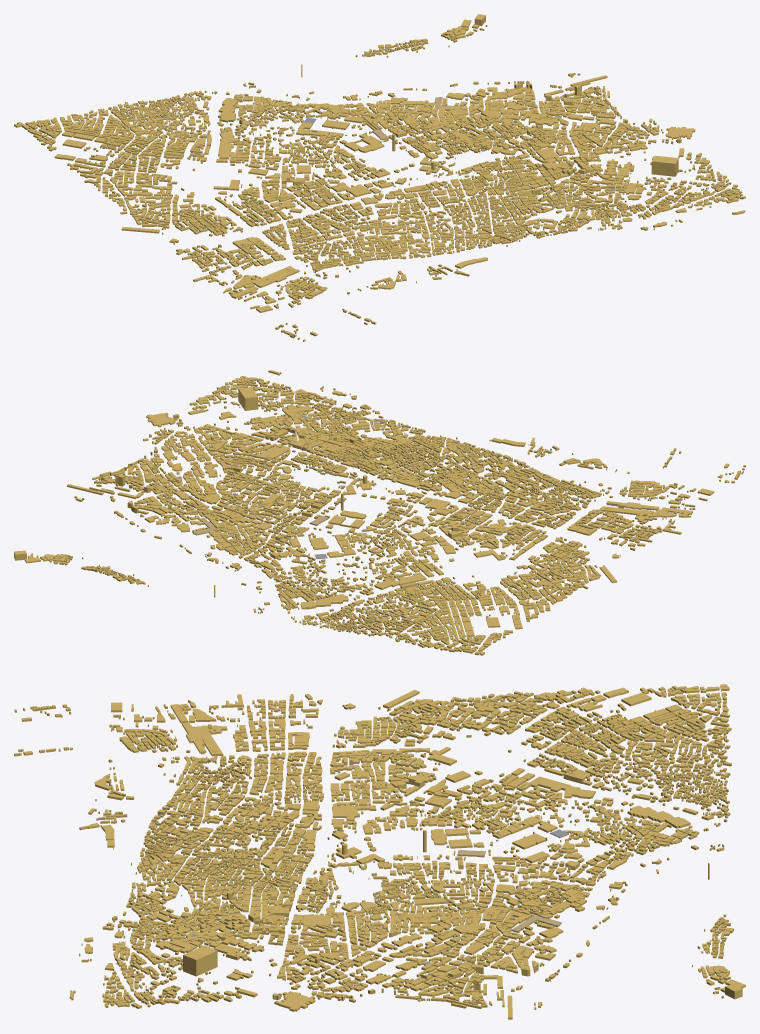
The model's file is buildings.glb.
3 views of the same model, one above another, from view 1: azimuth 30°, elevation 25°; view 2: azimuth 150°, elevation 25°; view 3: azimuth 270°, elevation 25° (orthographic). The views are drawn at different scales.
Parts seen in each view (by area): view 1: buildings; view 2: buildings; view 3: buildings.
Boxes of the visible parts, x1,y1,x2,y2 form: buildings: (14, 14, 745, 341); buildings: (14, 370, 745, 655); buildings: (14, 684, 745, 1019).
Bounding box in the file's own units: 2834 × 158 × 2673.
